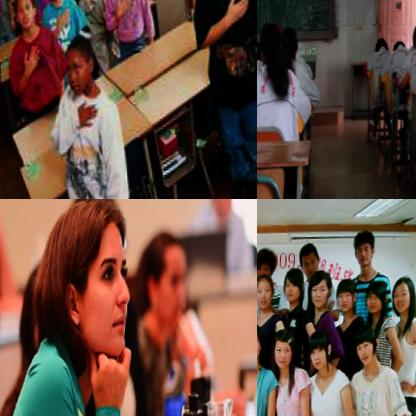head: (40, 199, 133, 373), (141, 228, 199, 336), (63, 33, 104, 100), (352, 231, 378, 277), (270, 333, 299, 374), (305, 333, 333, 372), (258, 24, 285, 62), (392, 277, 416, 318), (308, 276, 333, 315), (354, 330, 378, 369), (280, 25, 303, 62), (9, 0, 38, 29), (282, 269, 305, 305), (299, 245, 322, 281), (337, 281, 361, 315), (366, 283, 387, 318), (257, 277, 276, 315), (257, 248, 278, 282), (207, 199, 240, 218), (375, 35, 390, 59), (394, 37, 409, 56), (257, 325, 263, 360)
